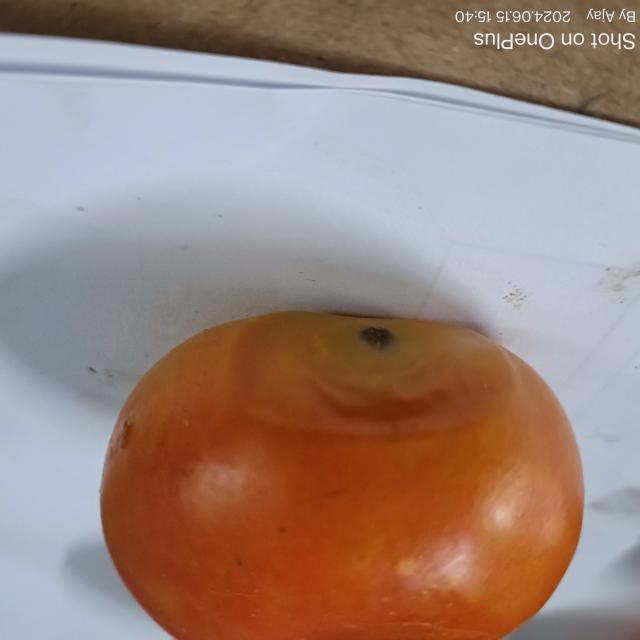Botrytis: (356, 325, 392, 355)
